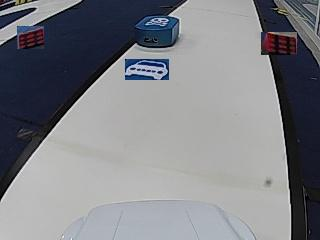danger: (146, 17, 169, 26)
